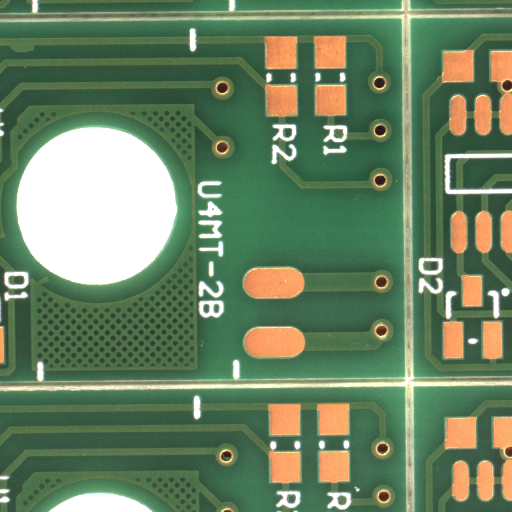Spur: (21, 48, 52, 60)
